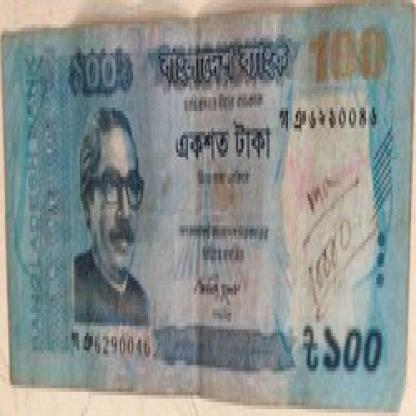one hundred taka: (304, 24, 398, 87), (318, 319, 389, 385), (65, 42, 140, 97)
